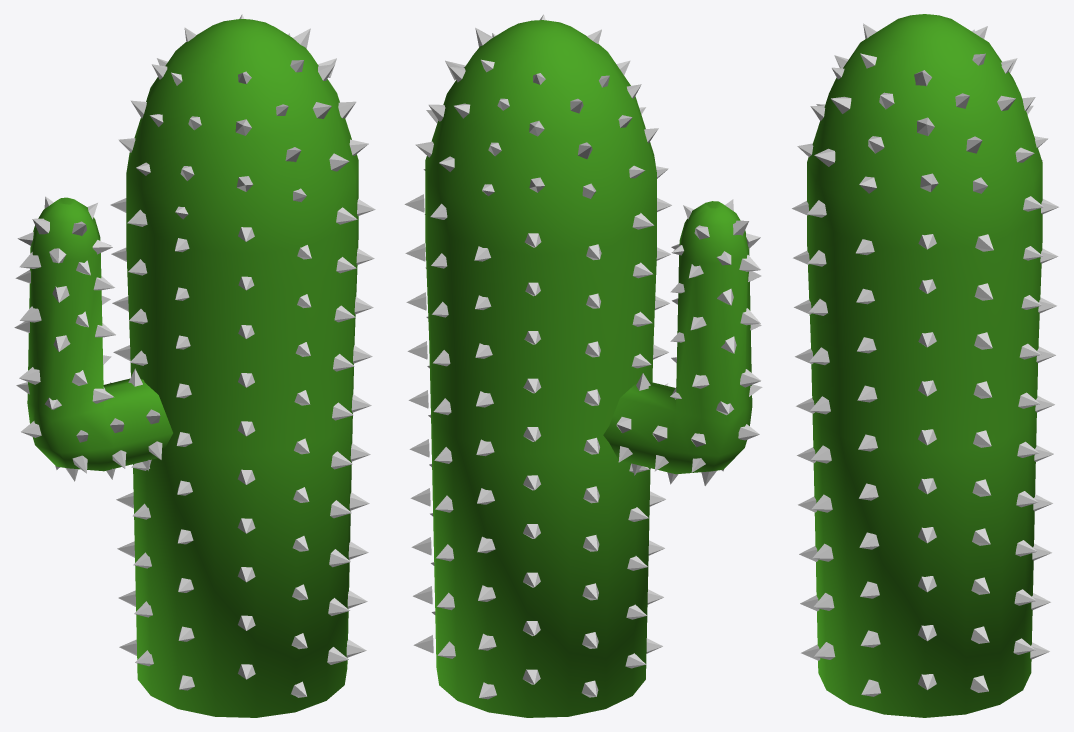
File: Cactus.fbx
3 views of the same model, side by side, from view 1: azimuth 30°, elevation 25°; view 2: azimuth 150°, elevation 25°; view 3: azimuth 270°, elevation 25° (orthographic).
Visible parts, largest first — view 1: Cactus2; view 2: Cactus2; view 3: Cactus2.
Boxes of the visible parts, x1,y1,x2,y2 form: Cactus2: (14, 14, 375, 717); Cactus2: (404, 14, 762, 717); Cactus2: (792, 14, 1058, 717).
Size of the model in its own units: 334 by 611 by 227.
